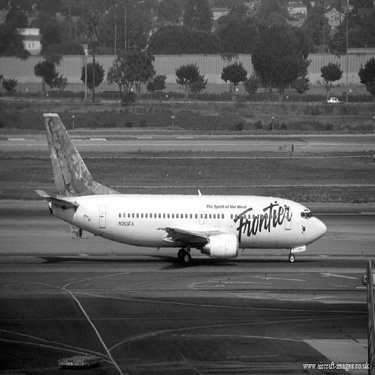airplane: (17, 101, 339, 275)
